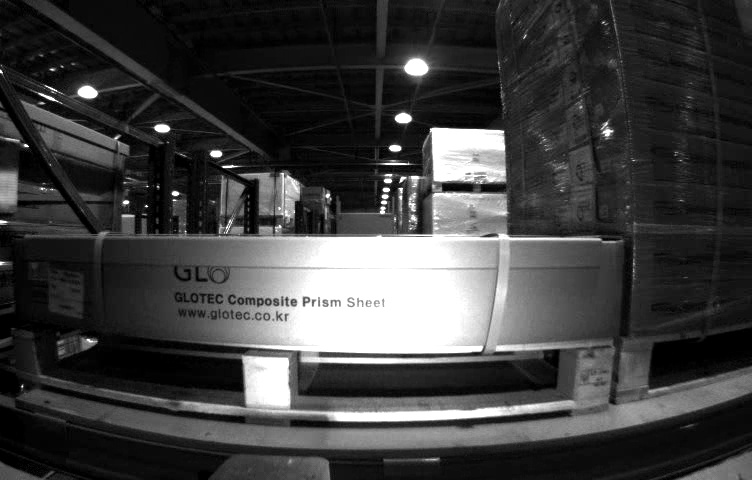True Barcode: (44, 266, 84, 325)
